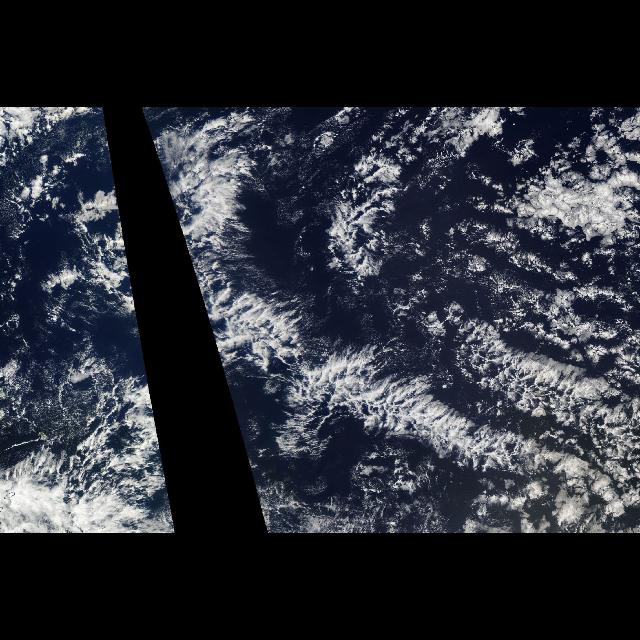Fish: (297, 295, 633, 509), (139, 110, 291, 360), (298, 112, 410, 284), (76, 110, 144, 360)
